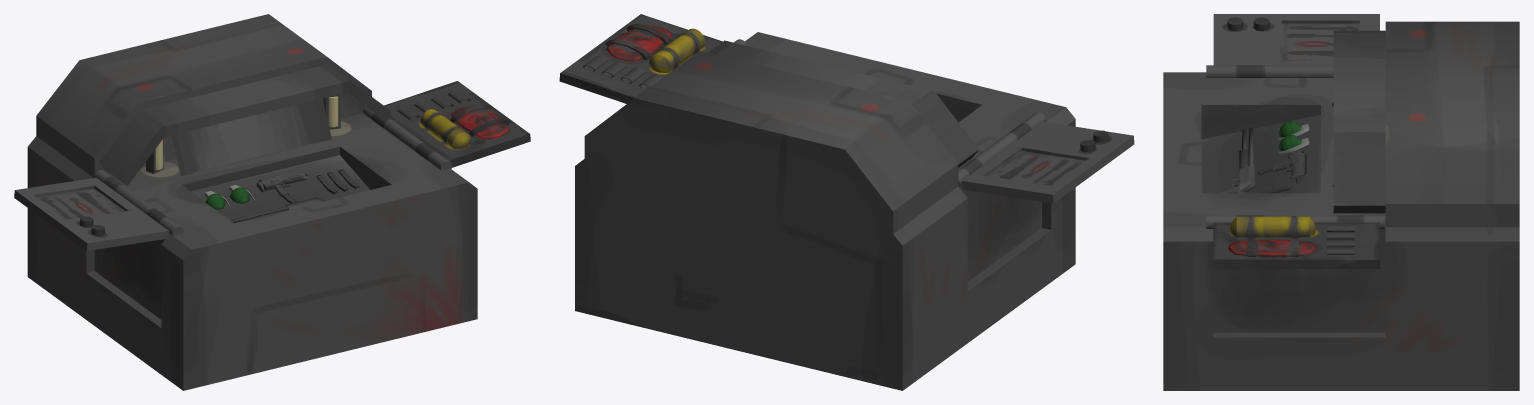
Rendered from shop.FBX.
3 views of the same model, side by side, from view 1: azimuth 30°, elevation 25°; view 2: azimuth 150°, elevation 25°; view 3: azimuth 270°, elevation 25° (orthographic). The views are drawn at different scales.
Parts seen in each view (by area): view 1: Box001, mp7, m10; view 2: Box001; view 3: Box001, m10, mp7, Sphere002, Sphere001.
Boxes of the visible parts, <box> form: Box001: <box>14,14,530,390</box>; mp7: <box>256,172,310,197</box>; m10: <box>230,197,325,223</box>; Box001: <box>559,14,1134,390</box>; Box001: <box>1163,14,1519,390</box>; m10: <box>1216,127,1255,193</box>; mp7: <box>1272,150,1306,183</box>; Sphere002: <box>1278,135,1309,153</box>; Sphere001: <box>1278,121,1309,140</box>.
Size of the model in its own units: 298 by 131 by 181.
